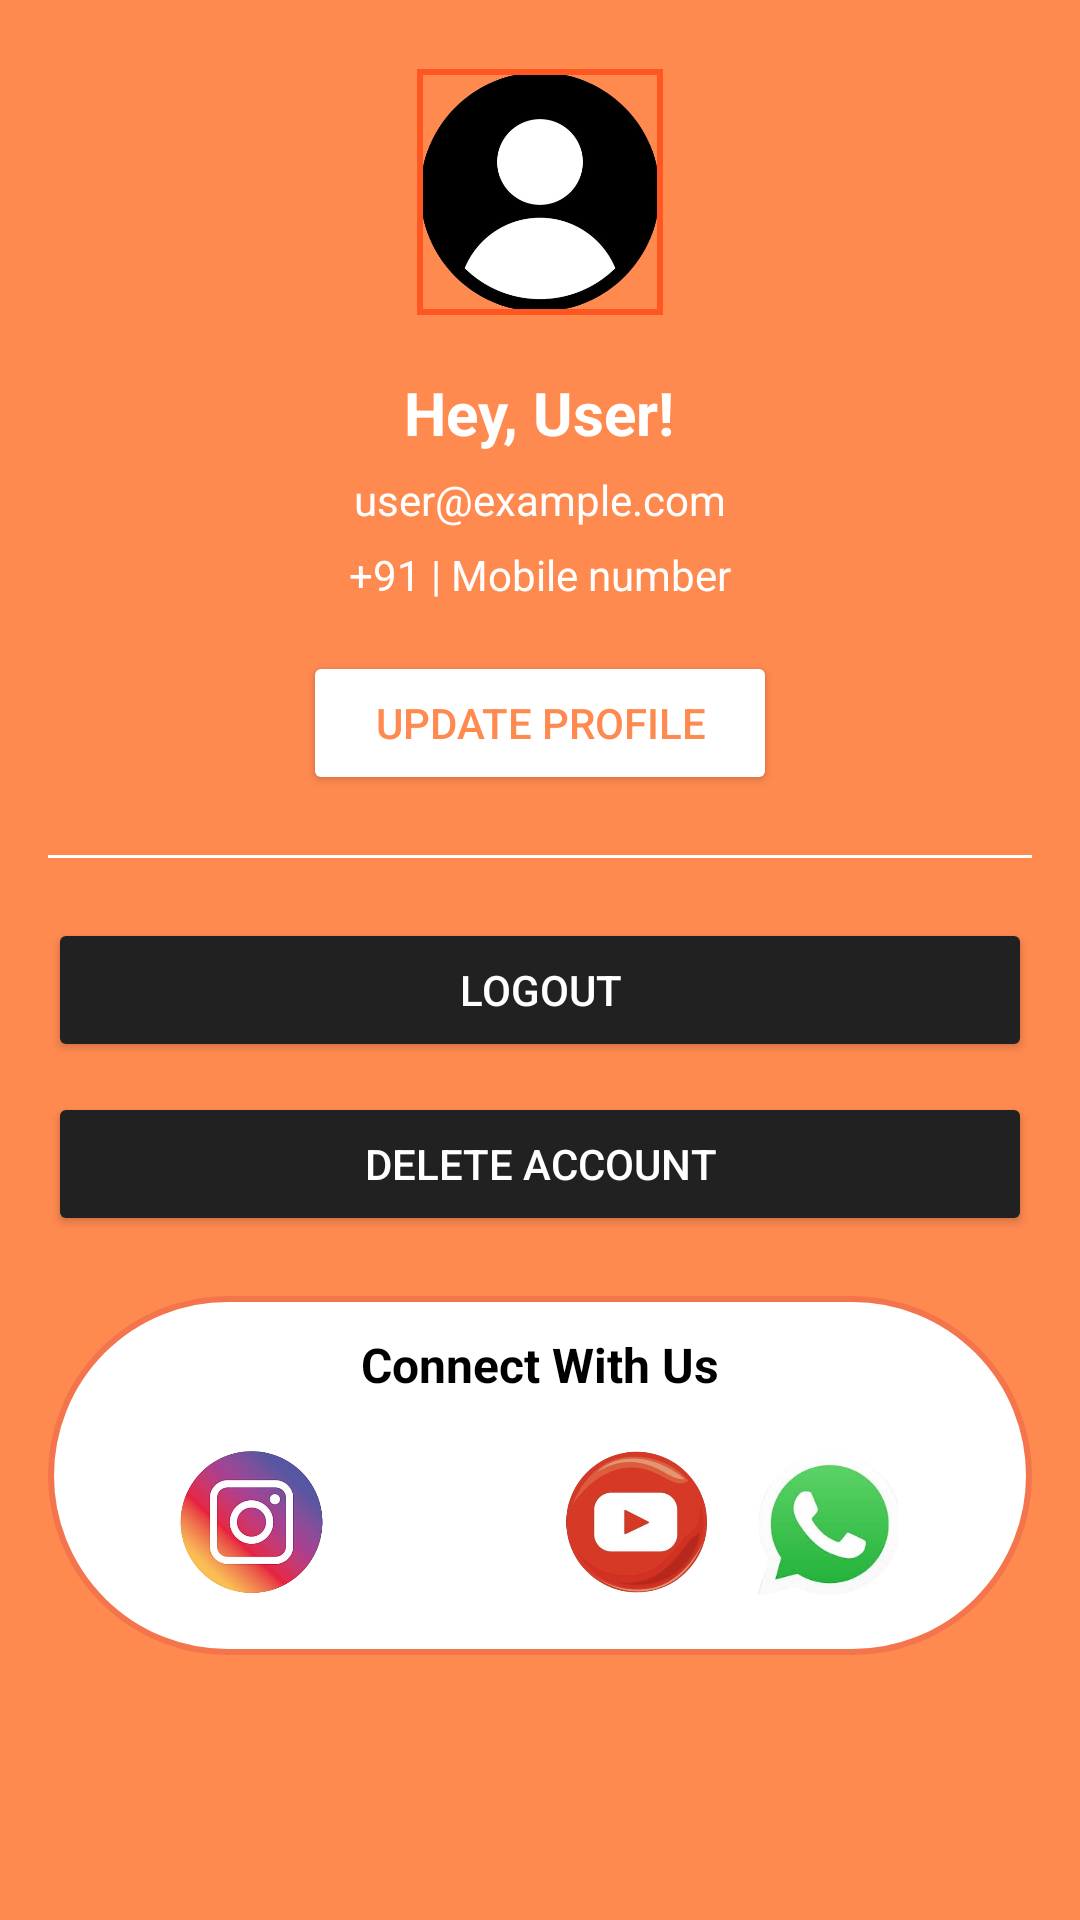

Where to tap for icons on this 1080px x 1920px app screen, as [x,y]:
Profile Picture: [540,192]
